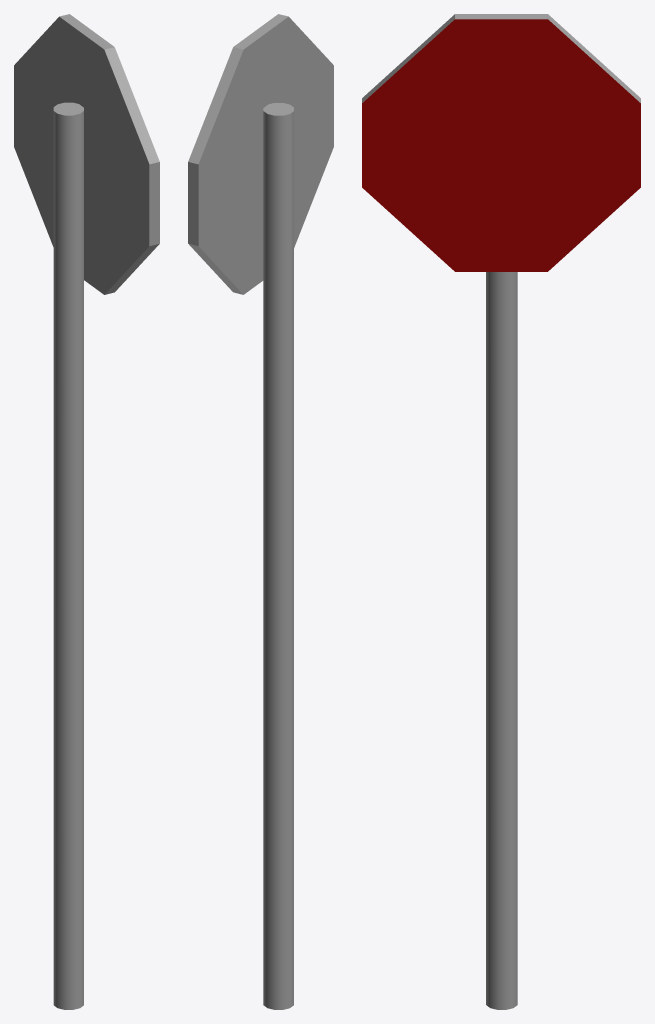
File: TH_Stop_Sign_GRB_v1.fbx
3 renders of one model, left to right at view 1: azimuth 30°, elevation 25°; view 2: azimuth 150°, elevation 25°; view 3: azimuth 270°, elevation 25°, orthographic. The views are drawn at different scales.
Parts seen in each view (by area): view 1: pCylinder2, Stop_Sign; view 2: pCylinder2, Stop_Sign; view 3: Stop_Sign, pCylinder2.
Part boxes in pixels (x1=…): pCylinder2: x1=53, y1=102, x2=83, y2=1009; Stop_Sign: x1=14, y1=14, x2=159, y2=294; pCylinder2: x1=263, y1=103, x2=293, y2=1009; Stop_Sign: x1=188, y1=14, x2=333, y2=294; Stop_Sign: x1=362, y1=14, x2=640, y2=271; pCylinder2: x1=486, y1=272, x2=517, y2=1009.
Bounding box in the file's own units: 8.51 × 216 × 54.79.
